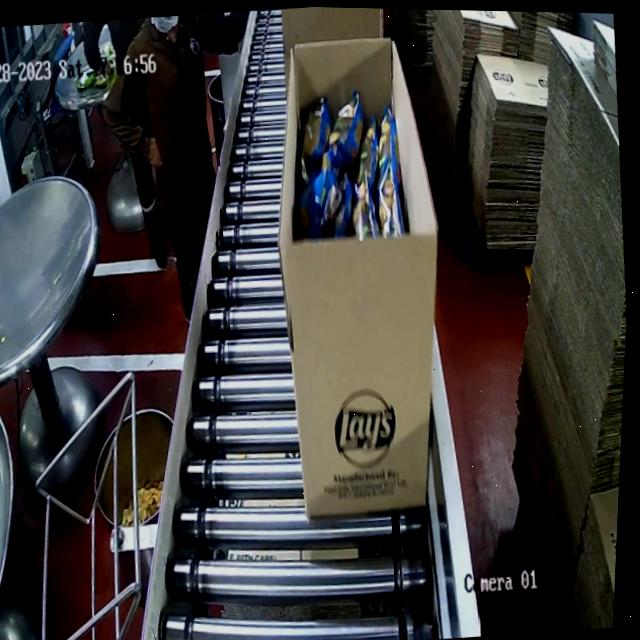PAPRIKA: (283, 85, 416, 240)
